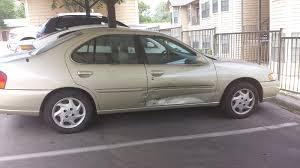doorouter-dent: (148, 67, 215, 107)
